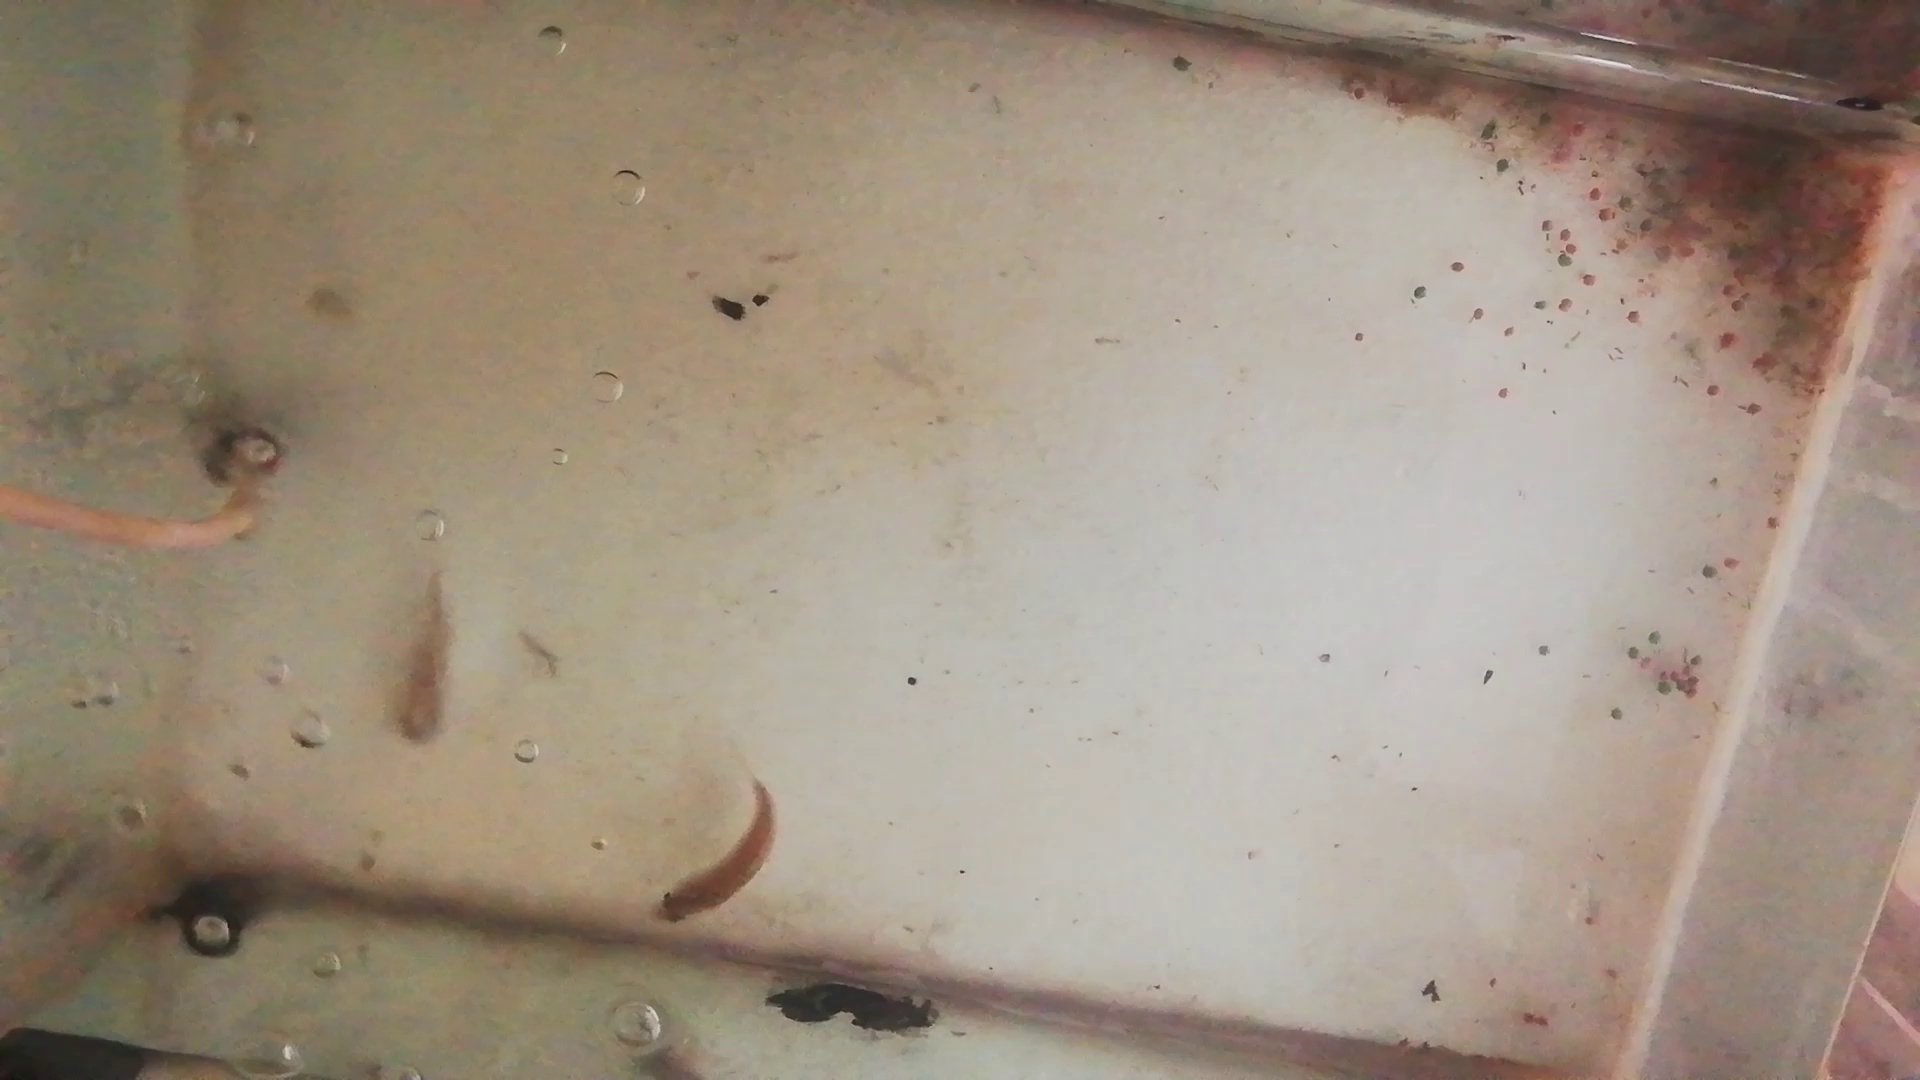fish: (647, 783, 774, 923), (398, 575, 455, 741)
